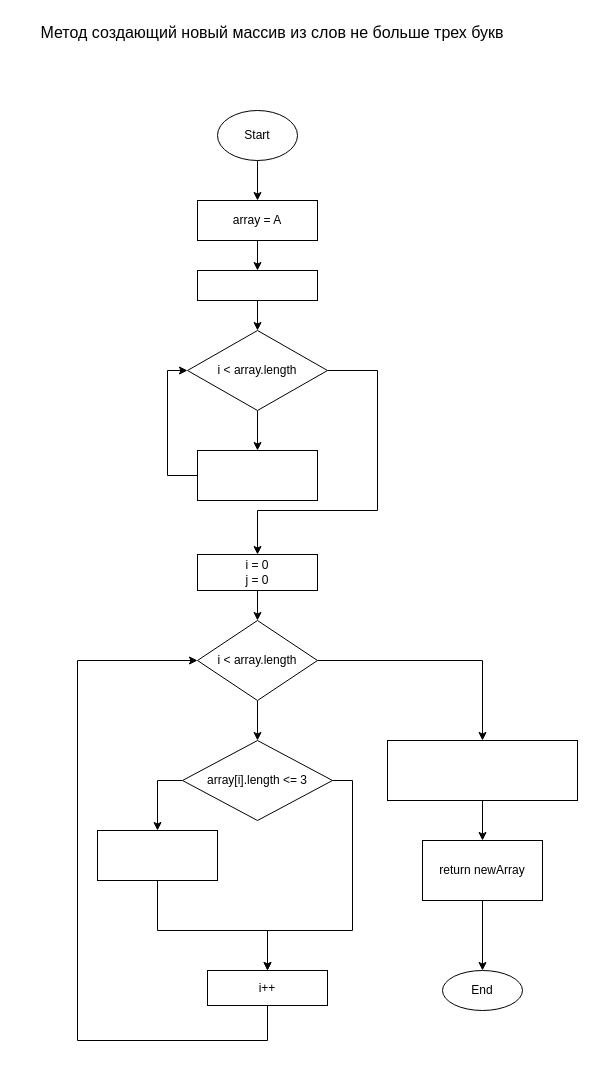
Image size: 595x1066. Some labels were removed from this diagram. The shapes that lost their labels are listed below. From the top down, each one's centre as x and y in pixels, then its label:
pixel 257 285: int i = 0
pixel 257 475: newArray[i] = "" i++
pixel 482 770: Array.Resize (ref newArray, j)
pixel 157 855: newArray[j] = array[i] j++
